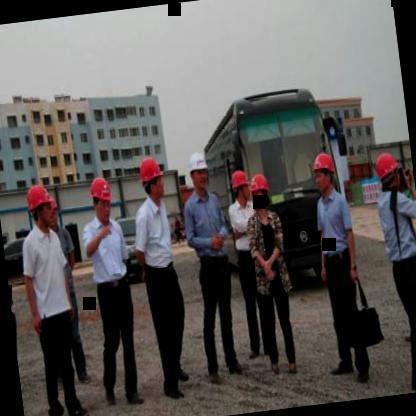helmet: (84, 172, 118, 226), (24, 180, 57, 233), (371, 146, 404, 196), (137, 152, 168, 205), (308, 150, 339, 198), (186, 148, 214, 194), (226, 165, 254, 208), (247, 172, 274, 212)
